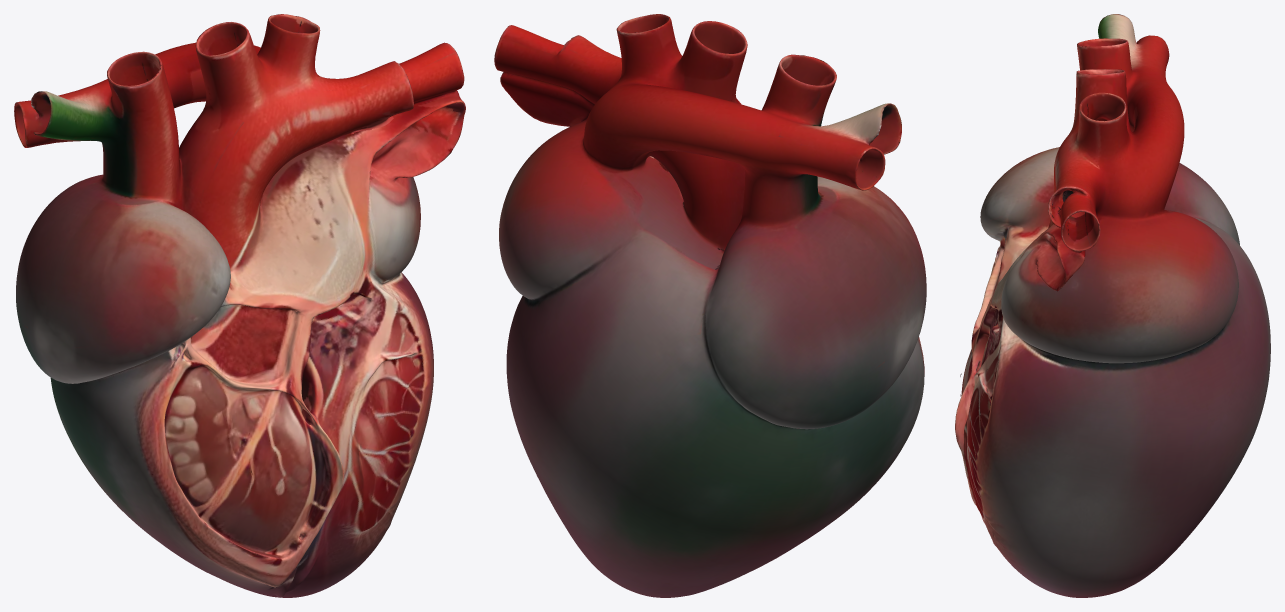
File: vet_v2_organ_cow_heart.glb
3 renders of one model, left to right at view 1: azimuth 30°, elevation 25°; view 2: azimuth 150°, elevation 25°; view 3: azimuth 270°, elevation 25°, orthographic. The views are drawn at different scales.
Parts seen in each view (by area): view 1: model; view 2: model; view 3: model.
Part boxes in pixels (bbox=[...]): model: bbox=[14, 14, 465, 597]; model: bbox=[494, 14, 926, 597]; model: bbox=[955, 14, 1270, 597].
Bounding box in the file's own units: 1.42 × 1.9 × 1.08.
1 material, 1 textured.
